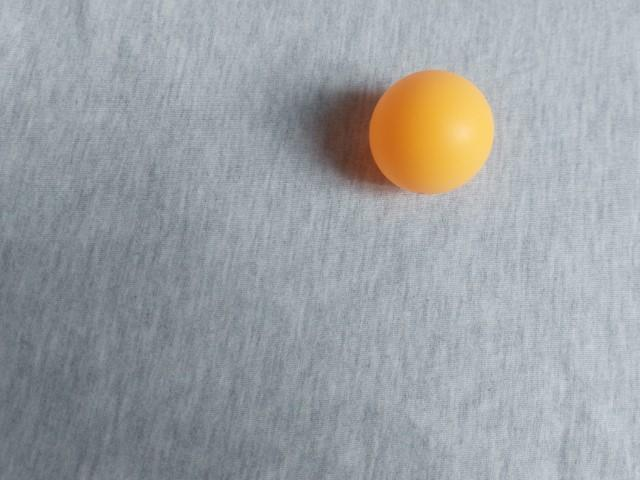oball: (136, 280, 278, 415)
